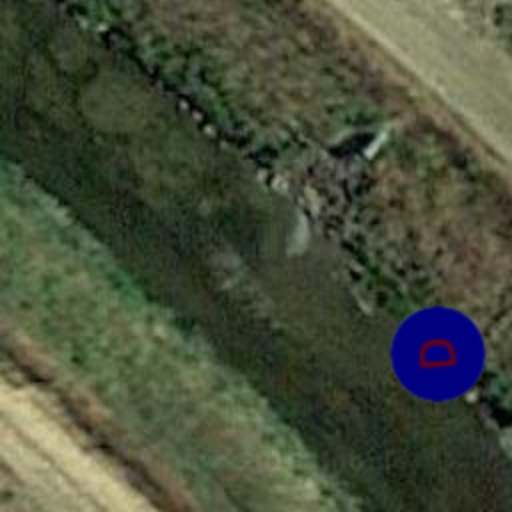circle: (386, 302, 490, 406)
